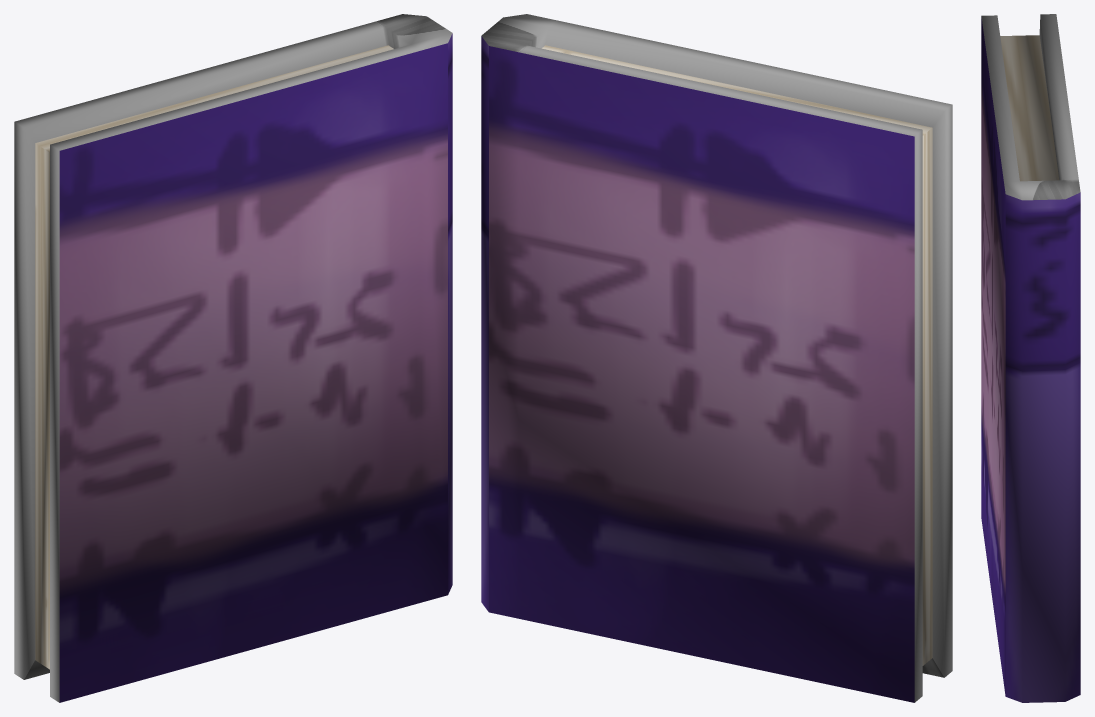
The model's file is Livro4.fbx.
3 views of the same model, side by side, from view 1: azimuth 30°, elevation 25°; view 2: azimuth 150°, elevation 25°; view 3: azimuth 270°, elevation 25° (orthographic). The views are drawn at different scales.
Visible parts, largest first — view 1: Livro4; view 2: Livro4; view 3: Livro4.
Boxes of the visible parts, x1,y1,x2,y2 form: Livro4: [14, 14, 452, 702]; Livro4: [481, 14, 952, 702]; Livro4: [981, 14, 1080, 702].
Size of the model in its own units: 50 by 11.24 by 62.85.
